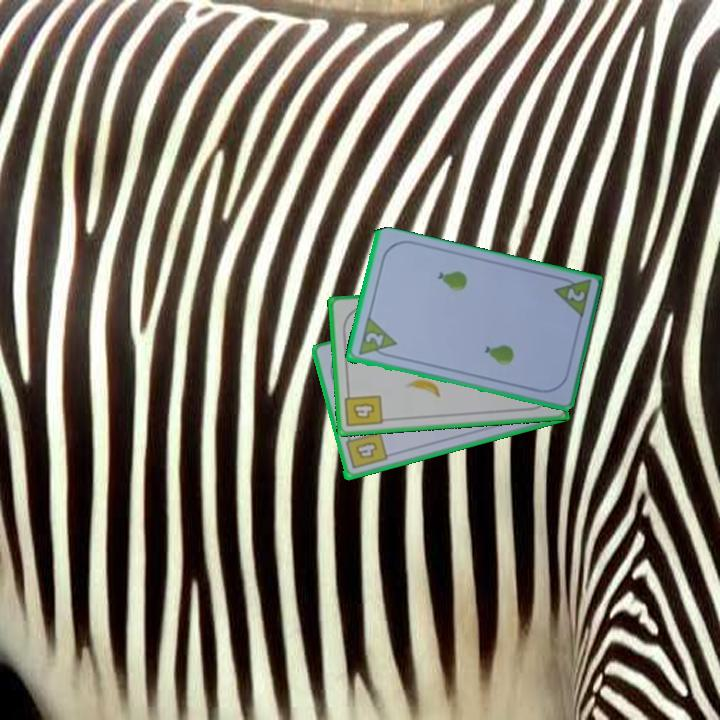2p: (361, 329, 386, 349), (563, 285, 588, 305)
4b: (342, 429, 390, 472), (342, 386, 385, 430)
